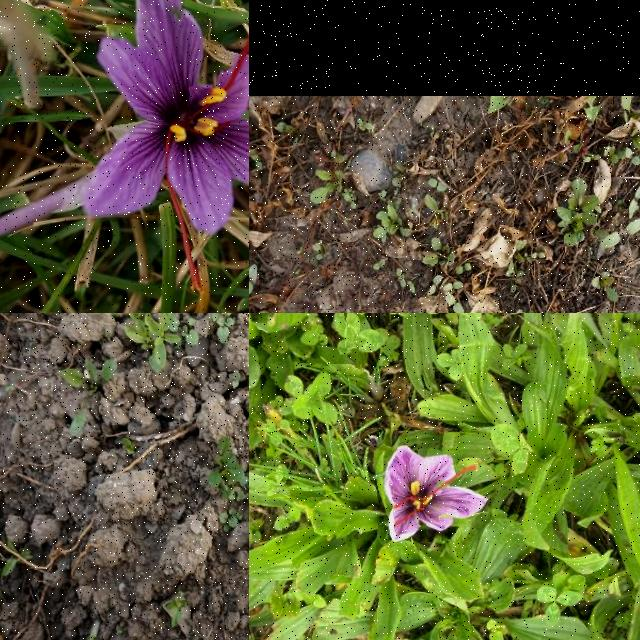flower: (85, 0, 249, 294), (386, 446, 488, 542)
